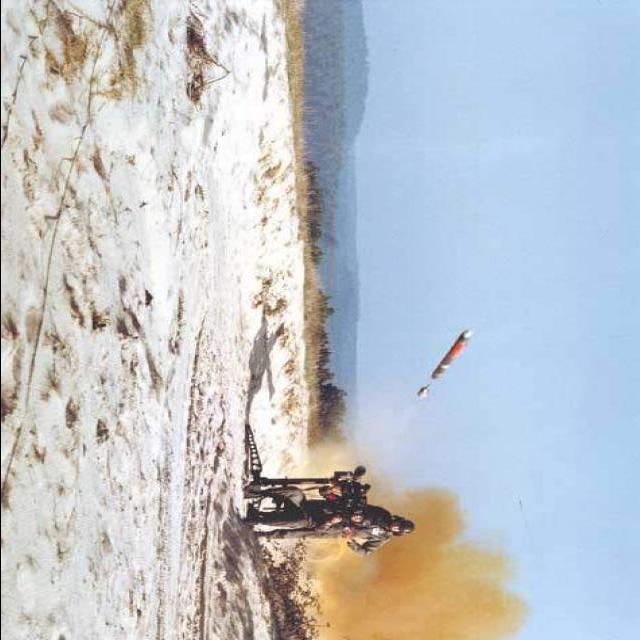missile: (424, 325, 480, 384)
